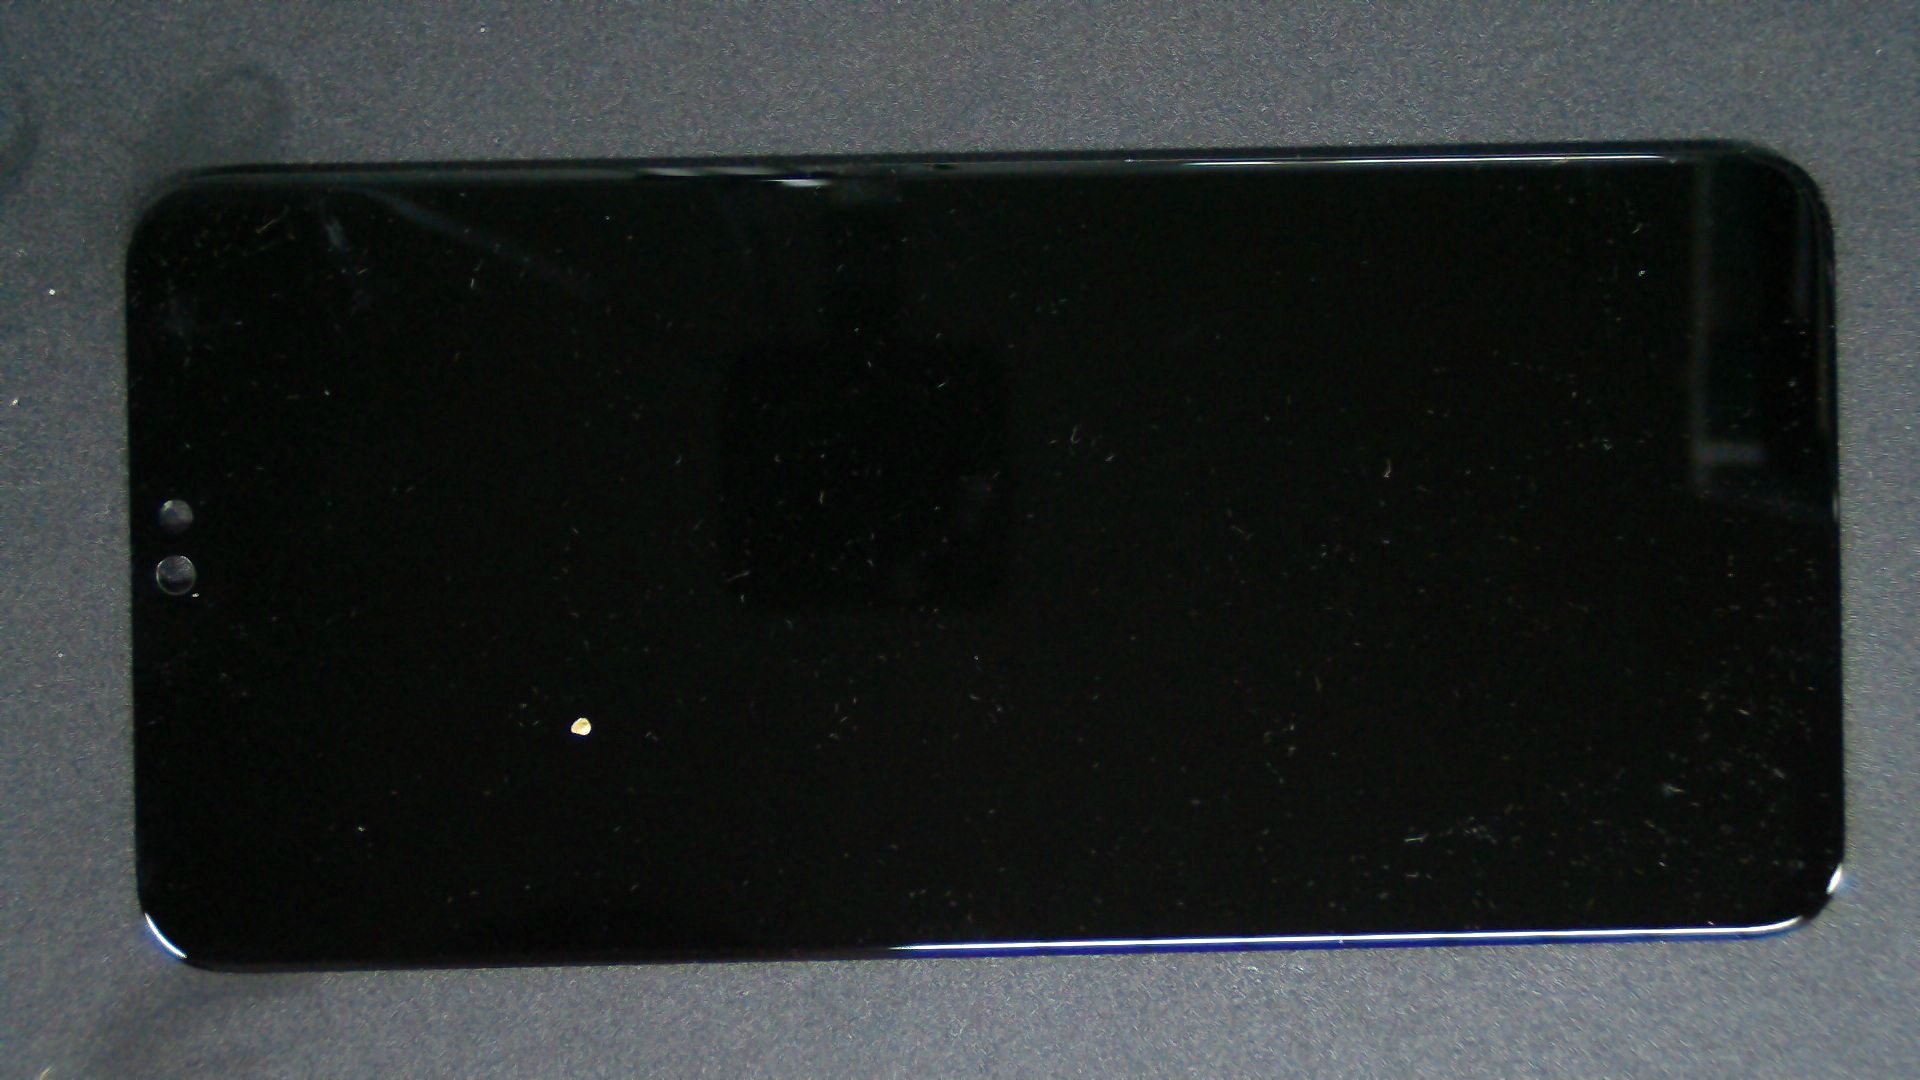oil: (290, 357, 869, 1075)
